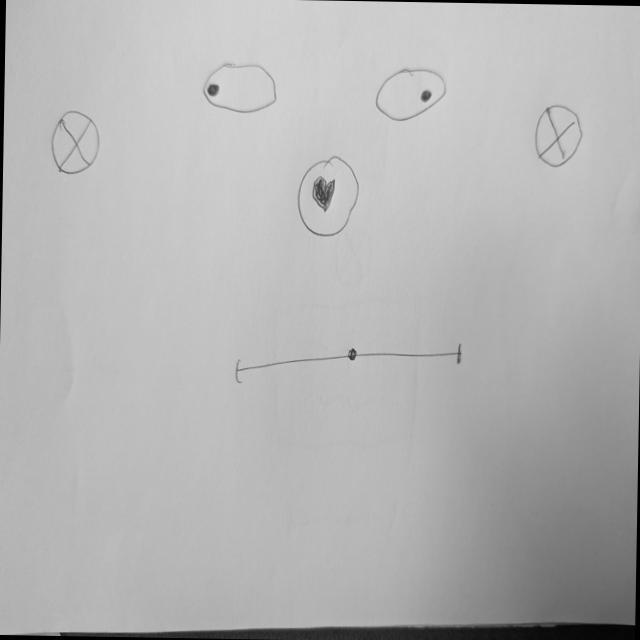icon-button: (295, 152, 362, 241)
image: (51, 108, 104, 180), (533, 101, 587, 171)
slider: (230, 336, 467, 396)
toggle: (374, 65, 449, 128), (201, 61, 281, 117)
